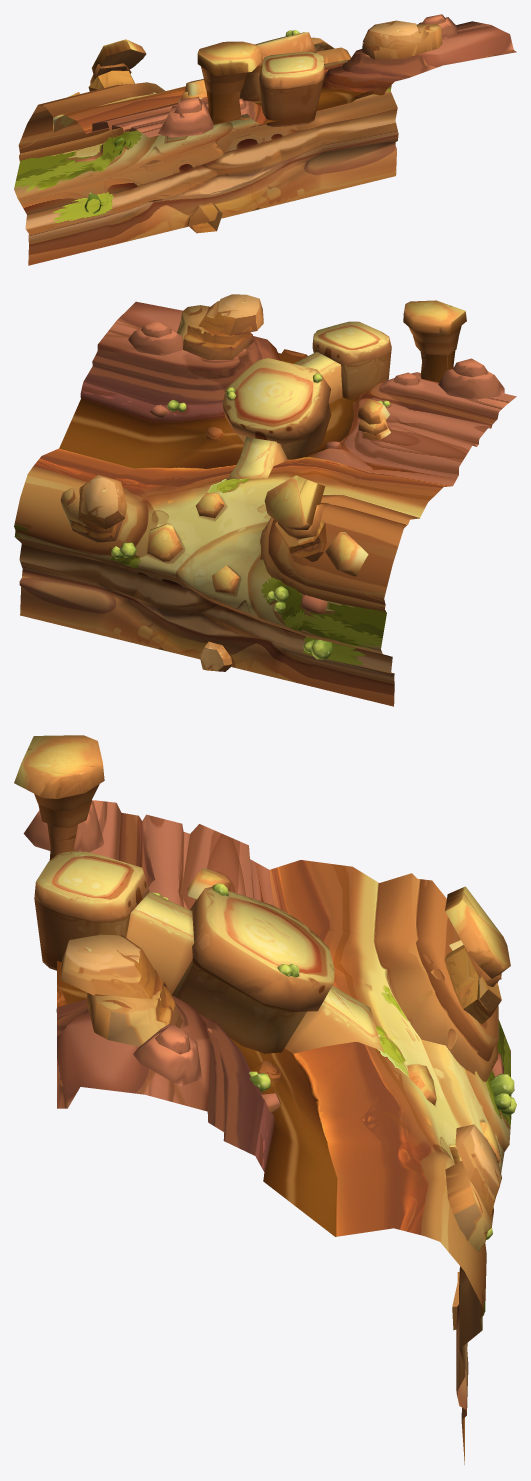
The model's file is Chapter4Model1.FBX.
The picture shows the model from 3 angles, top to bottom: view 1: azimuth 30°, elevation 25°; view 2: azimuth 150°, elevation 25°; view 3: azimuth 270°, elevation 25°; orthographic projection. The views are drawn at different scales.
Parts seen in each view (by area): view 1: Chapter4Model1Model1, Chapter4Model1Model2; view 2: Chapter4Model1Model1, Chapter4Model1Model2; view 3: Chapter4Model1Model1, Chapter4Model1Model2.
Boxes of the visible parts, box(x1,y1,x2,y2) form: Chapter4Model1Model1: box(14, 21, 516, 265); Chapter4Model1Model2: box(53, 14, 458, 233); Chapter4Model1Model1: box(14, 301, 516, 706); Chapter4Model1Model2: box(60, 294, 504, 671); Chapter4Model1Model1: box(56, 800, 511, 1464); Chapter4Model1Model2: box(14, 735, 516, 1330).
Bounding box in the file's own units: 972 × 681 × 731.
